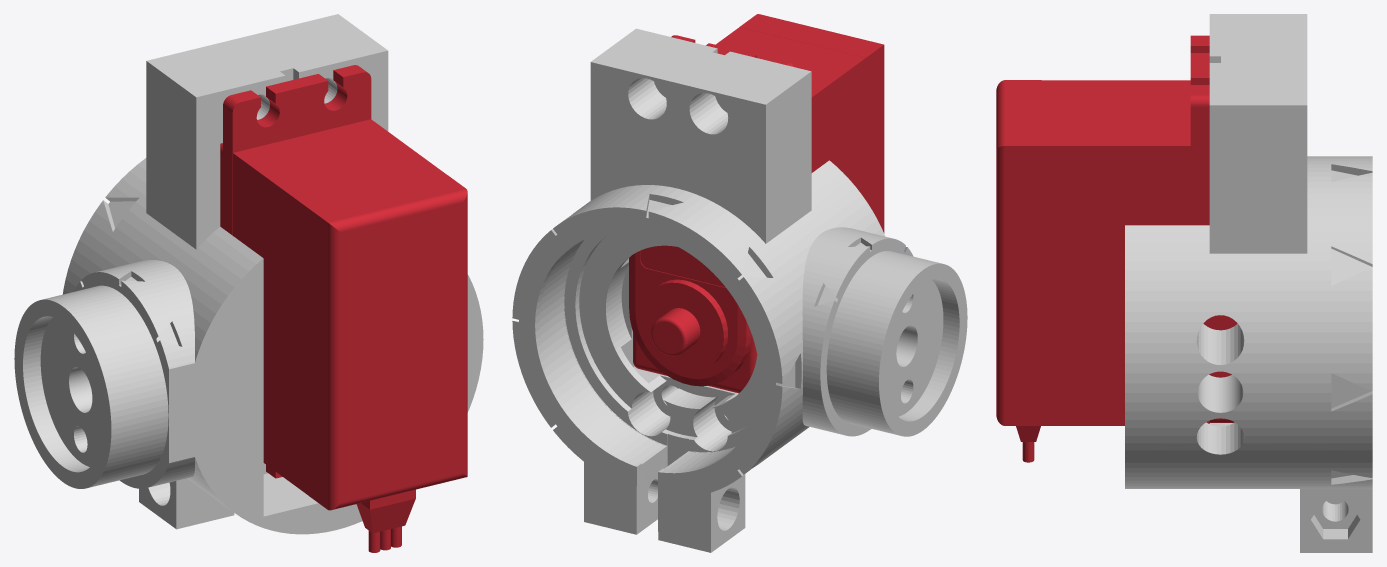
Rendered from hip_fl.dae.
3 views of the same model, side by side, from view 1: azimuth 30°, elevation 25°; view 2: azimuth 150°, elevation 25°; view 3: azimuth 270°, elevation 25° (orthographic). The views are drawn at different scales.
Parts seen in each view (by area): view 1: hip1_001; view 2: hip1_001; view 3: hip1_001.
Boxes of the visible parts, x1=… form: hip1_001: x1=14, y1=14, x2=483, y2=552; hip1_001: x1=512, y1=14, x2=967, y2=552; hip1_001: x1=996, y1=14, x2=1372, y2=552.
Size of the model in its own units: 0.0551 by 0.0496 by 0.0669.
